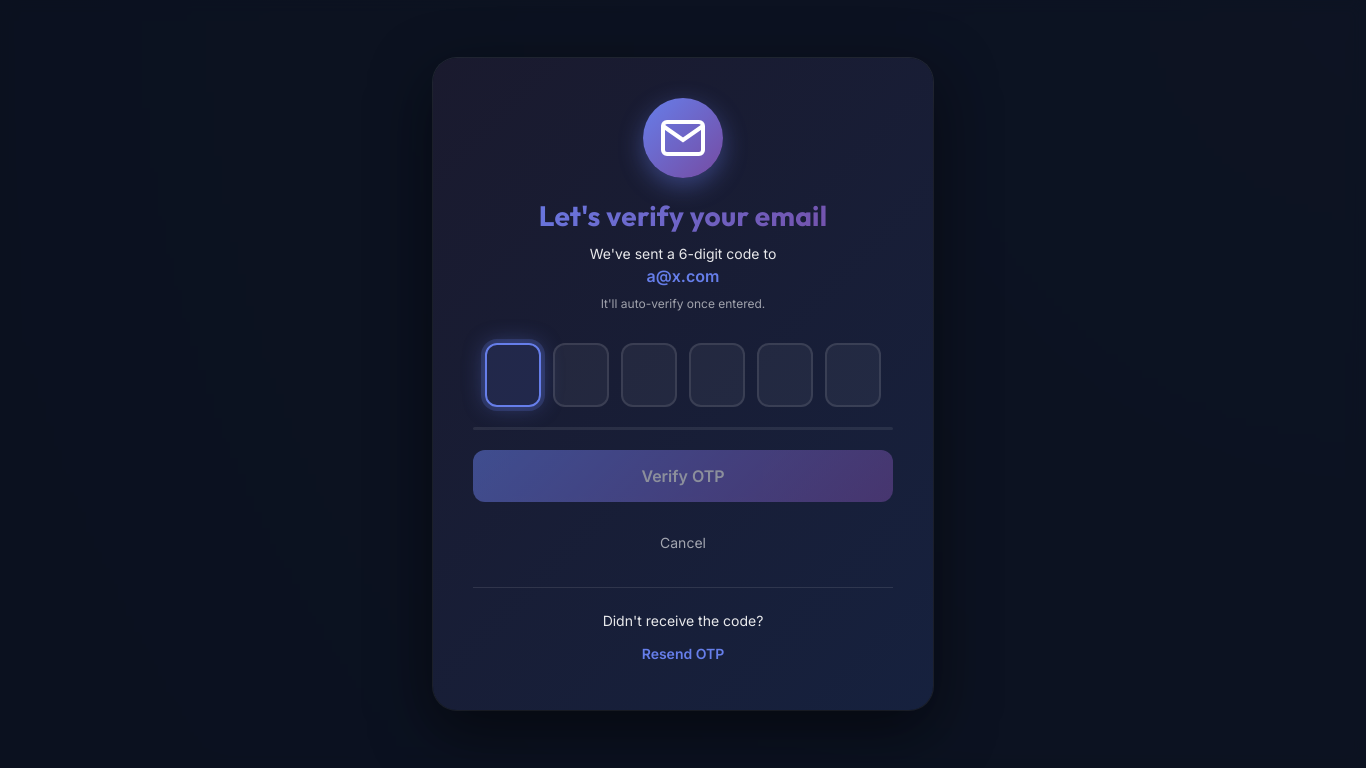
Test: a failed resend shows an error
The image size is (1366, 768).
Click the button "Resend OTP" at (683, 654), box [626, 637, 740, 670]
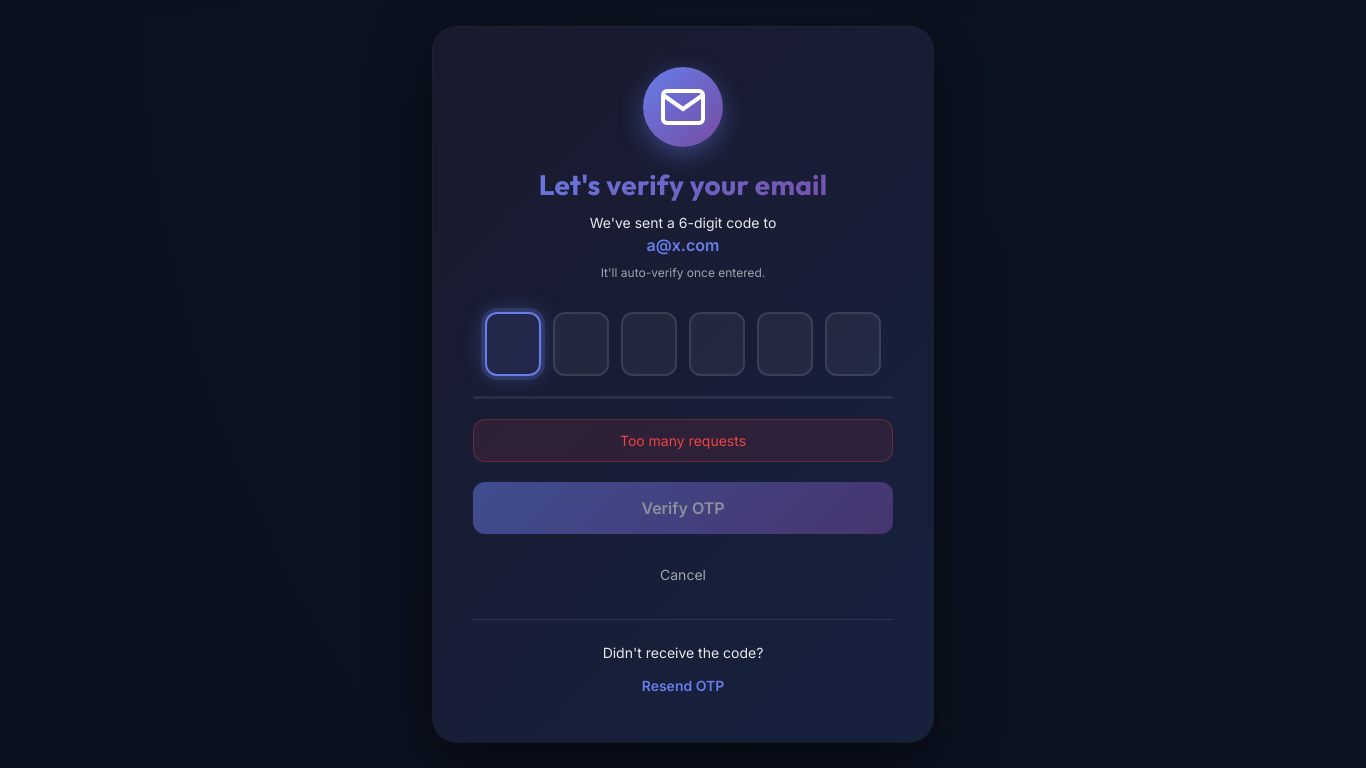
Expected: the text "Too many requests" is shown, [473, 418, 893, 462]
